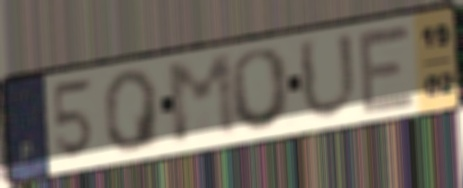5: (49, 78, 98, 164)
E: (354, 22, 420, 118)
M: (162, 49, 243, 149)
O: (229, 45, 295, 134)
Q: (99, 66, 164, 157)
U: (294, 26, 361, 125)
